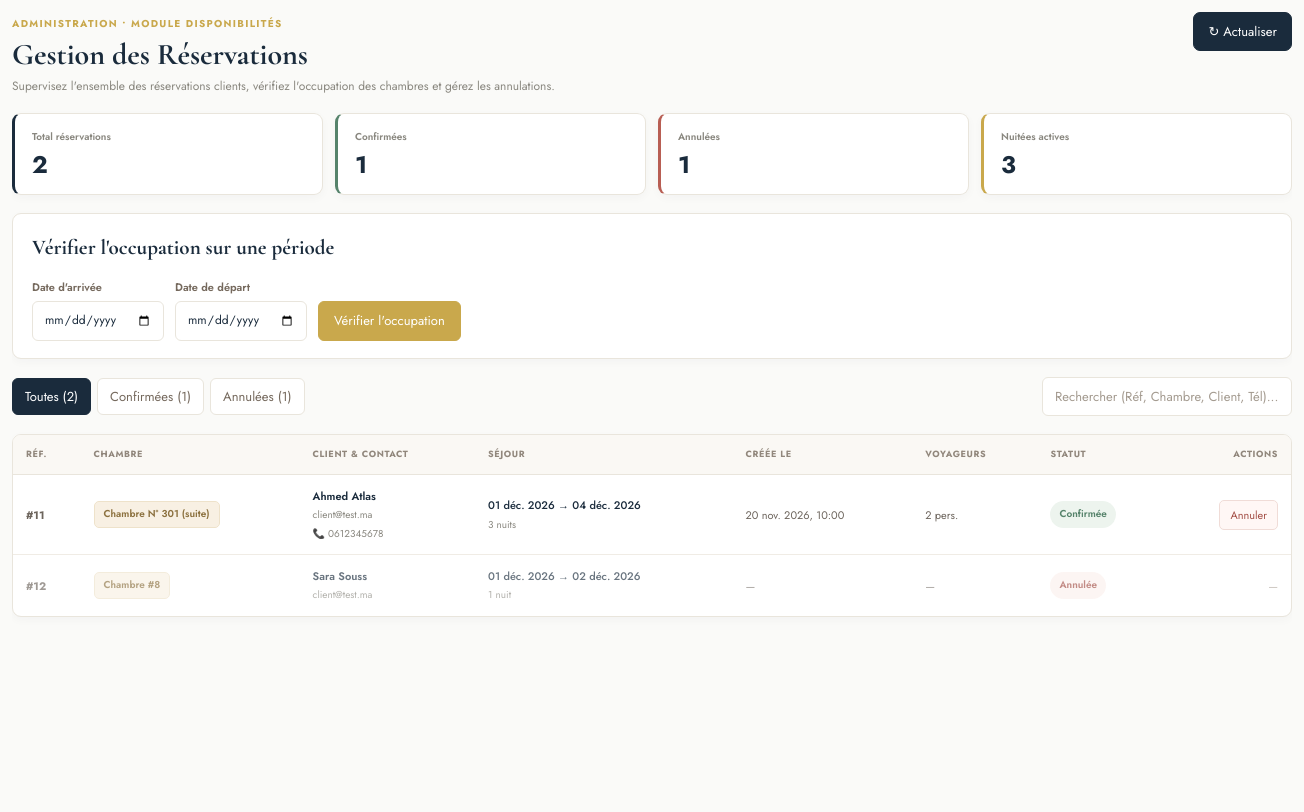
AdminDisponibilitesPage › filtre les réservations par statut
Expected: the text "#11" is shown, top-left (13, 475), bottom-right (81, 555)
What coordinates should you click on to do the following:
click the button "Annulées (1)"
I would click on:
 (257, 397)
Its box is top-left (210, 378), bottom-right (305, 415).
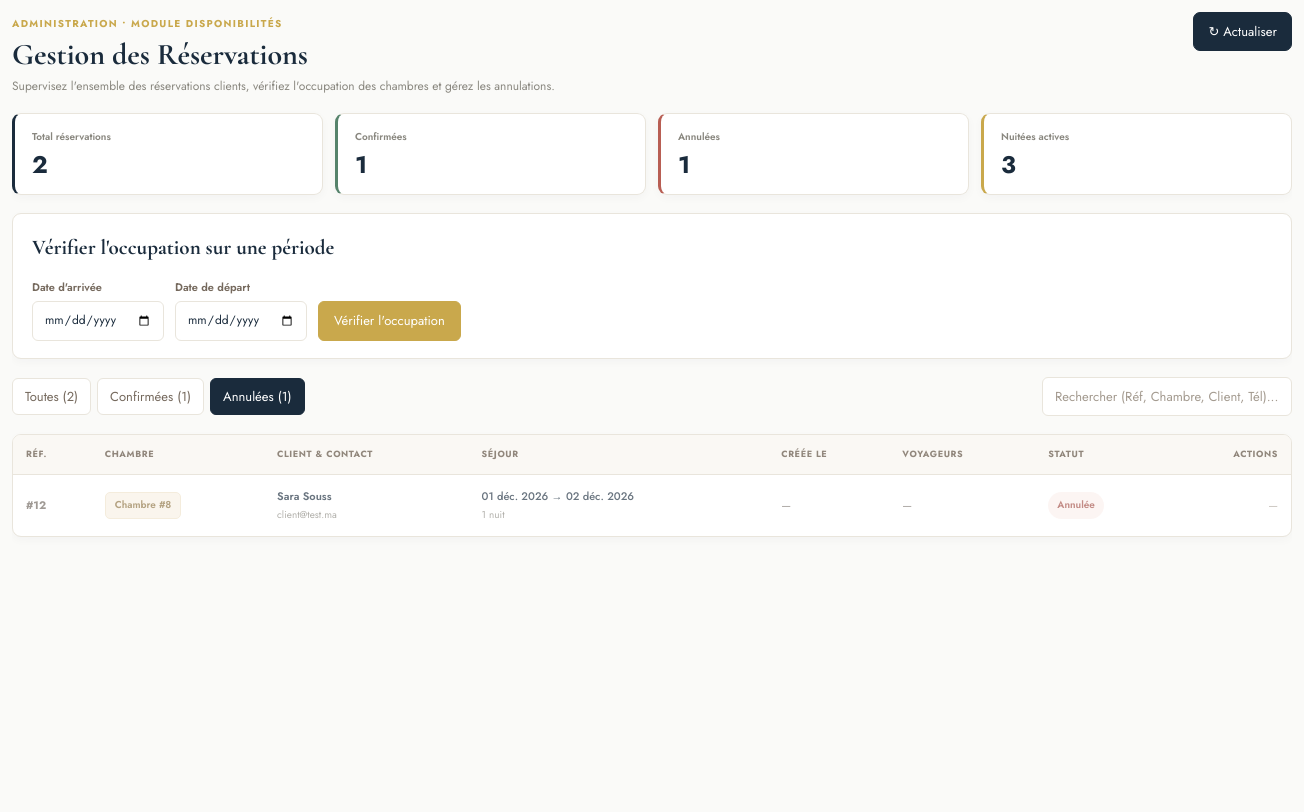
Expected: the text "#12" is shown, top-left (13, 475), bottom-right (92, 536)
Expected: the text "#11" is gone
What coordinates should you click on to do the following:
click the button "Confirmées (1)"
I would click on:
 (151, 397)
Its box is top-left (97, 378), bottom-right (204, 415).
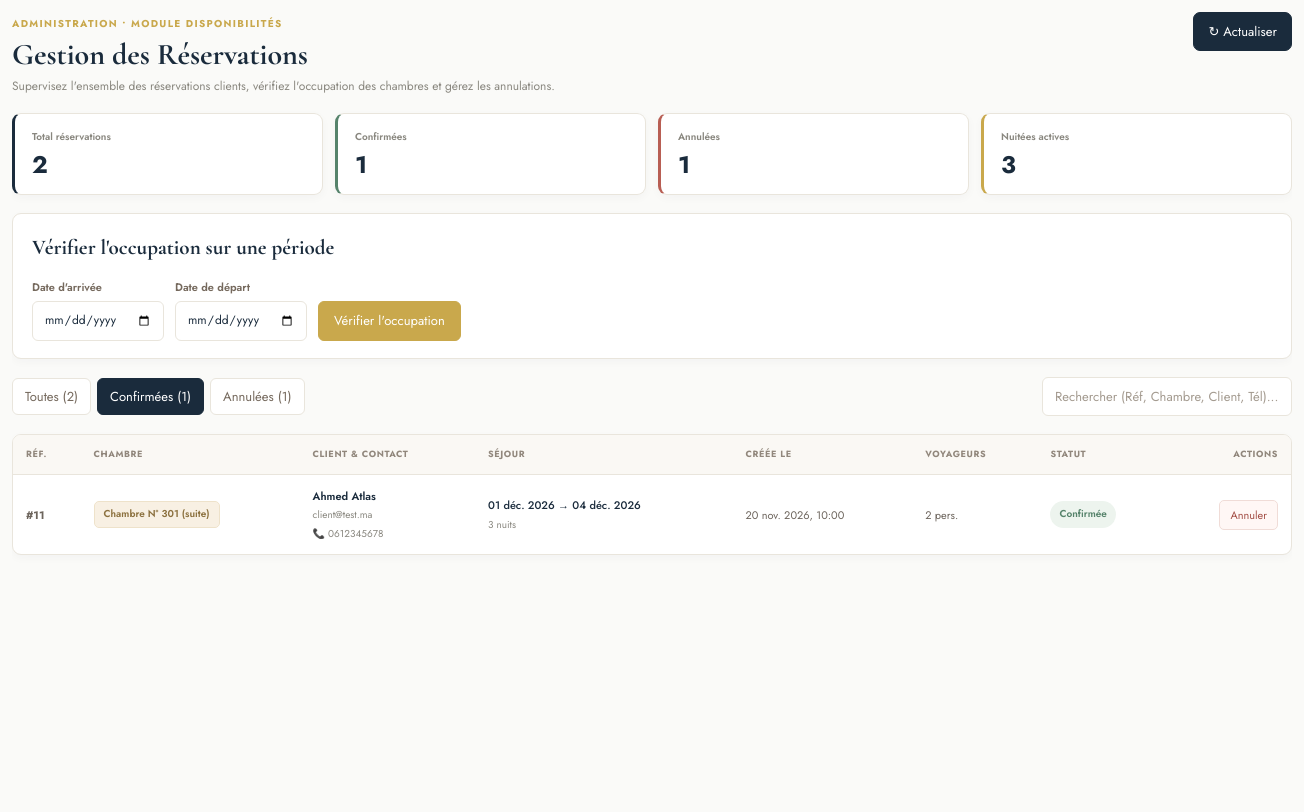
Expected: the text "#11" is shown, top-left (13, 475), bottom-right (81, 554)
What coordinates should you click on to do the following:
click the button "Toutes (2)"
I would click on:
 (52, 397)
Its box is top-left (12, 378), bottom-right (91, 415).
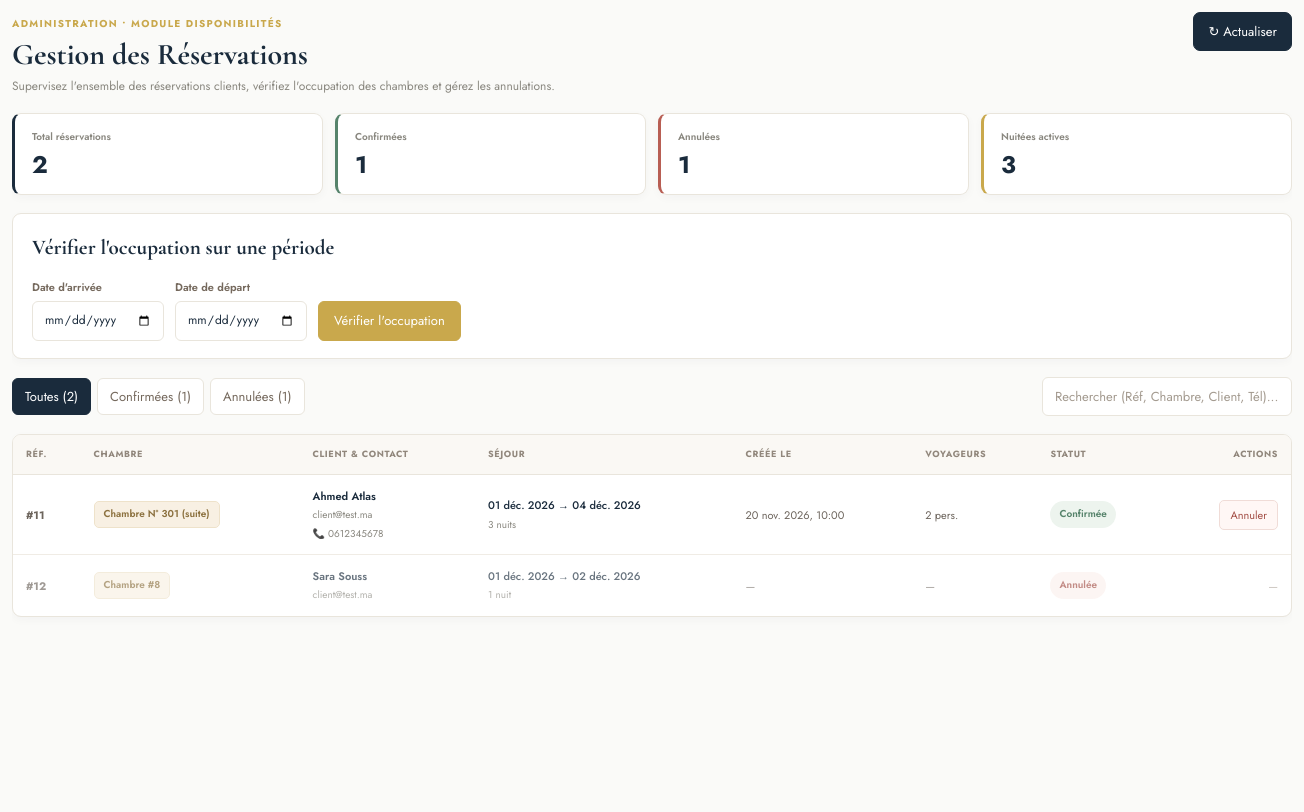
Expected: the text "#12" is shown, top-left (13, 555), bottom-right (81, 616)
